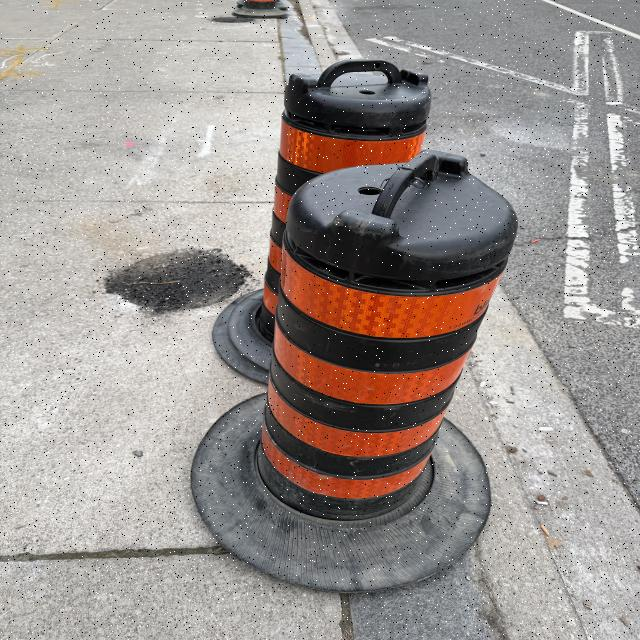Teraffic Barrel: (192, 151, 517, 591), (213, 60, 431, 382), (232, 0, 290, 18)
